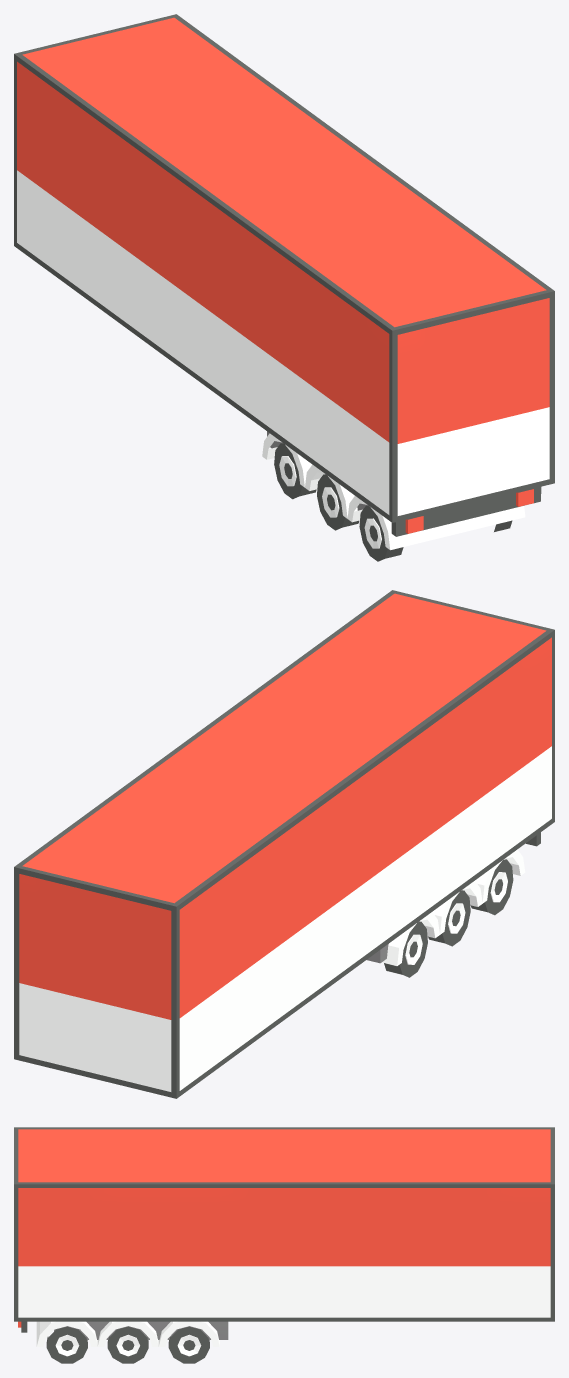
The model's file is transport_truck.010.glb.
3 views of the same model, one above another, from view 1: azimuth 30°, elevation 25°; view 2: azimuth 150°, elevation 25°; view 3: azimuth 270°, elevation 25° (orthographic). The views are drawn at different scales.
Visible parts, largest first — view 1: transport_truck.010(Clone); view 2: transport_truck.010(Clone); view 3: transport_truck.010(Clone).
Part boxes in pixels (<box>): transport_truck.010(Clone): <box>14,14,554,561</box>; transport_truck.010(Clone): <box>14,590,554,1098</box>; transport_truck.010(Clone): <box>14,1127,554,1363</box>.
Bounding box in the file's own units: 2.13 × 3.25 × 8.59.
Materials: 1 (1 with a texture image).
